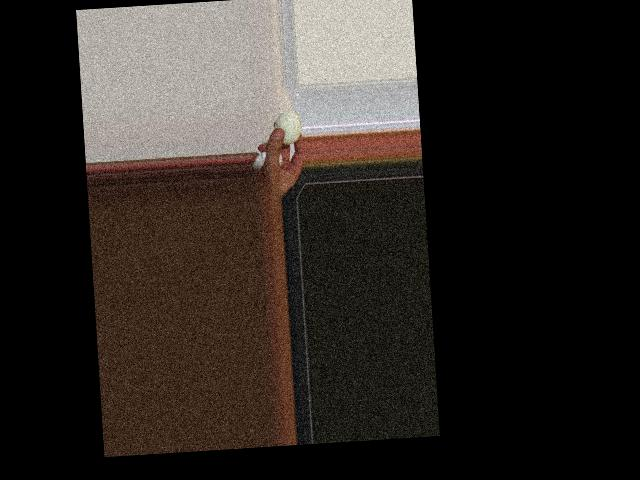egg: (272, 110, 302, 145)
